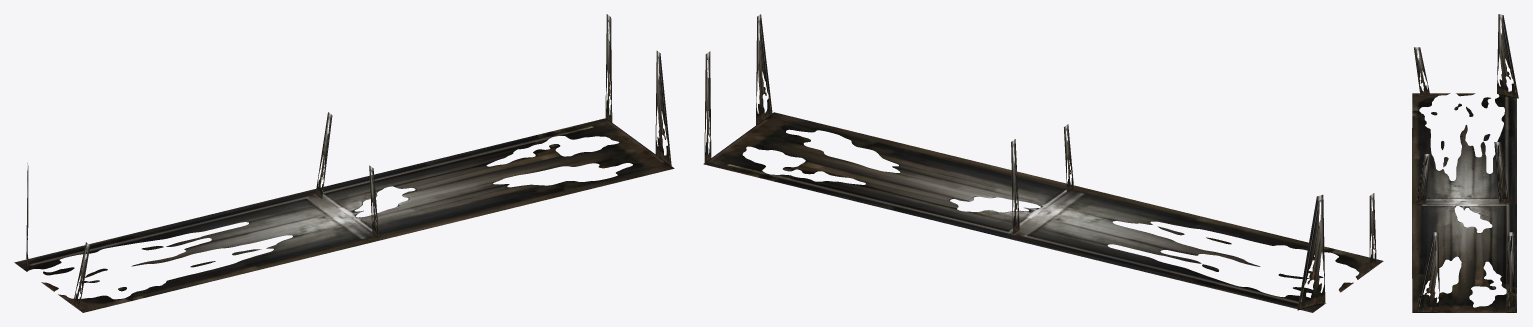
The model's file is munitionscrates_dam_hdtex.glb.
3 renders of one model, left to right at view 1: azimuth 30°, elevation 25°; view 2: azimuth 150°, elevation 25°; view 3: azimuth 270°, elevation 25°, orthographic. The views are drawn at different scales.
Visible parts, largest first — view 1: ammocrates_damaged; view 2: ammocrates_damaged; view 3: ammocrates_damaged.
Boxes of the visible parts, x1,y1,x2,y2 form: ammocrates_damaged: [14, 14, 674, 312]; ammocrates_damaged: [703, 14, 1383, 312]; ammocrates_damaged: [1412, 14, 1518, 312].
Size of the model in its own units: 8.45 by 1.44 by 1.74.
1 material, 1 textured.
